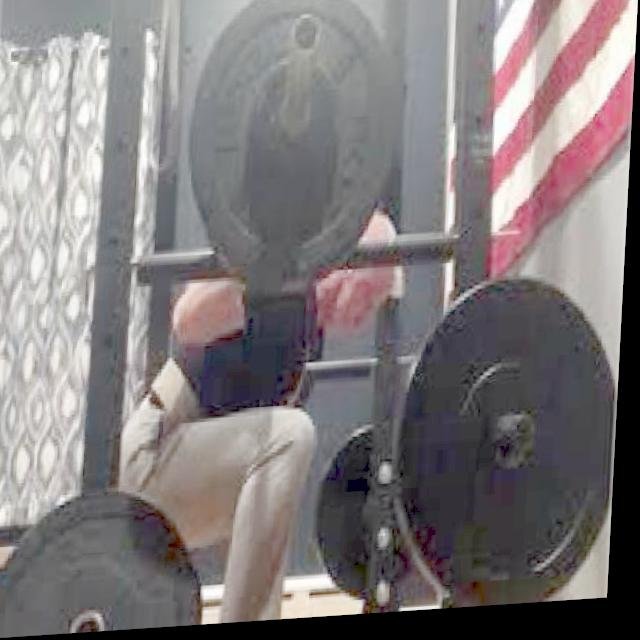barbell: (176, 1, 417, 297)
